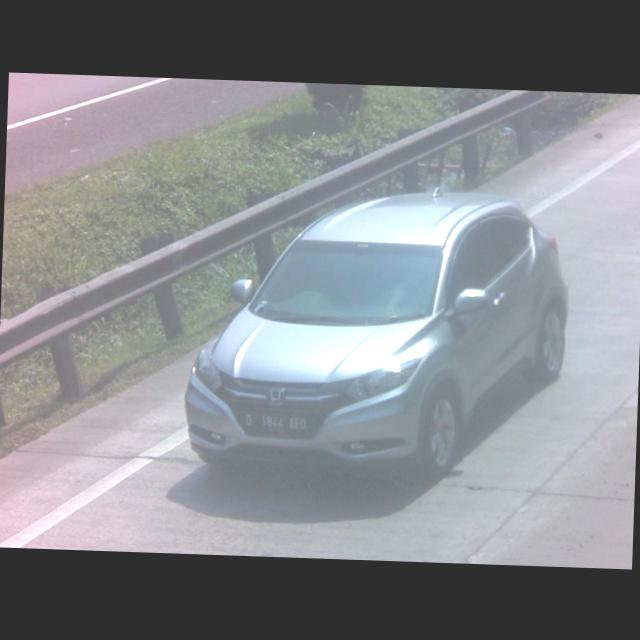plate: (240, 408, 311, 435)
